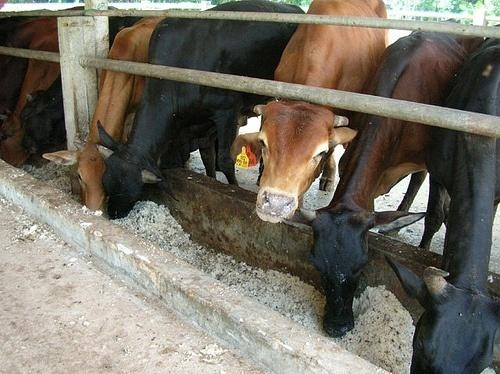cow: (301, 27, 484, 337), (100, 3, 305, 220), (409, 26, 499, 374), (252, 2, 387, 224), (47, 12, 166, 211), (1, 23, 60, 166), (22, 71, 64, 155)
